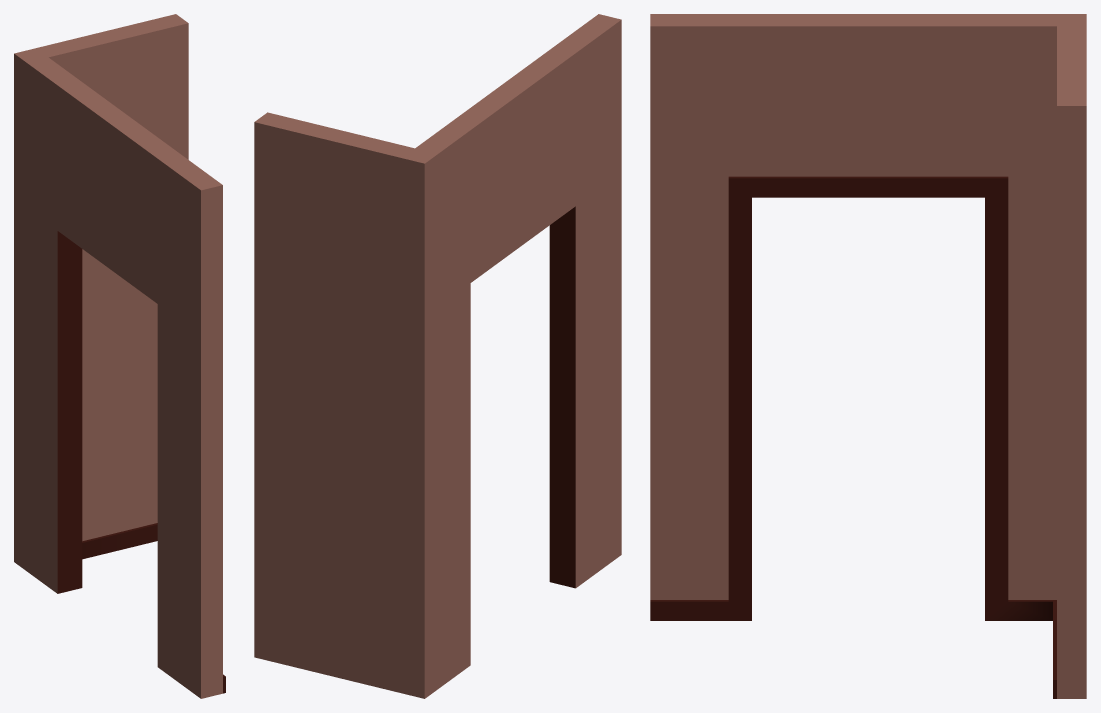
File: T_PorteAscenseur_03.fbx
3 views of the same model, side by side, from view 1: azimuth 30°, elevation 25°; view 2: azimuth 150°, elevation 25°; view 3: azimuth 270°, elevation 25° (orthographic). The views are drawn at different scales.
Visible parts, largest first — view 1: T_PorteAscenseur_03; view 2: T_PorteAscenseur_03; view 3: T_PorteAscenseur_03.
Boxes of the visible parts, x1,y1,x2,y2 form: T_PorteAscenseur_03: (14, 14, 225, 698); T_PorteAscenseur_03: (254, 14, 621, 698); T_PorteAscenseur_03: (650, 14, 1086, 698).
Size of the model in its own units: 100 by 300 by 200.
